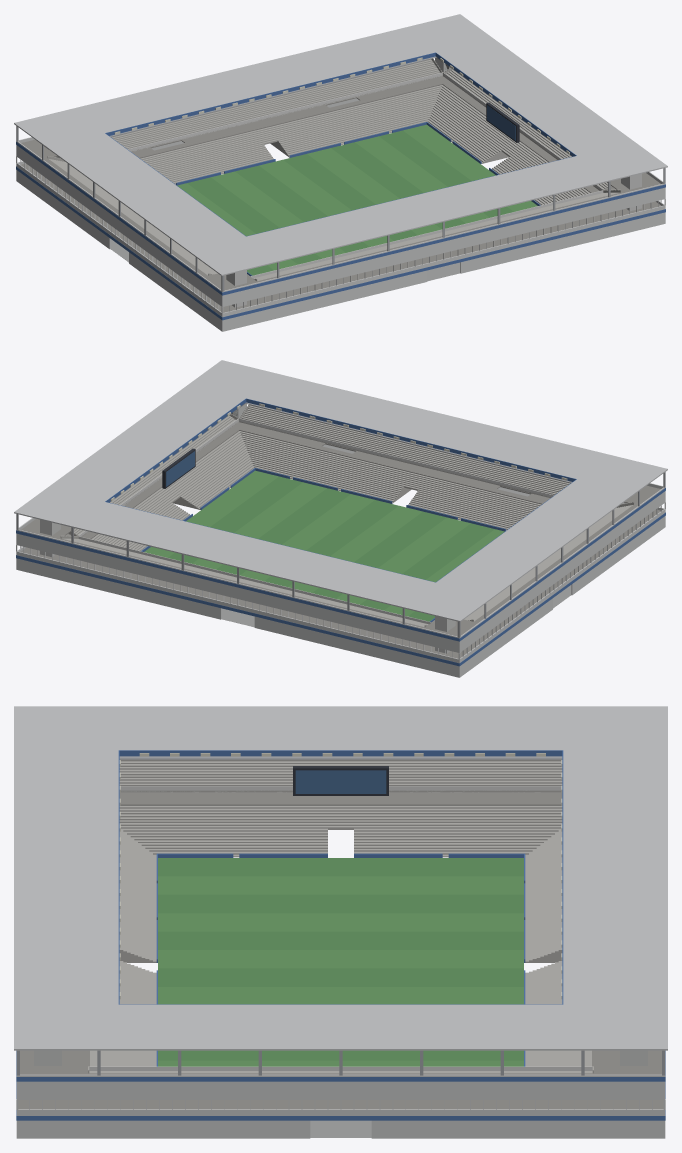
The model's file is arena.arena-v2.lod1.glb.
3 views of the same model, one above another, from view 1: azimuth 30°, elevation 25°; view 2: azimuth 150°, elevation 25°; view 3: azimuth 270°, elevation 25° (orthographic). The views are drawn at different scales.
Parts seen in each view (by area): view 1: arena; view 2: arena; view 3: arena.
Boxes of the visible parts, x1,y1,x2,y2 form: arena: (14, 14, 667, 331); arena: (14, 360, 667, 677); arena: (14, 706, 667, 1138).
Size of the model in its own units: 186 by 23.05 by 150.
